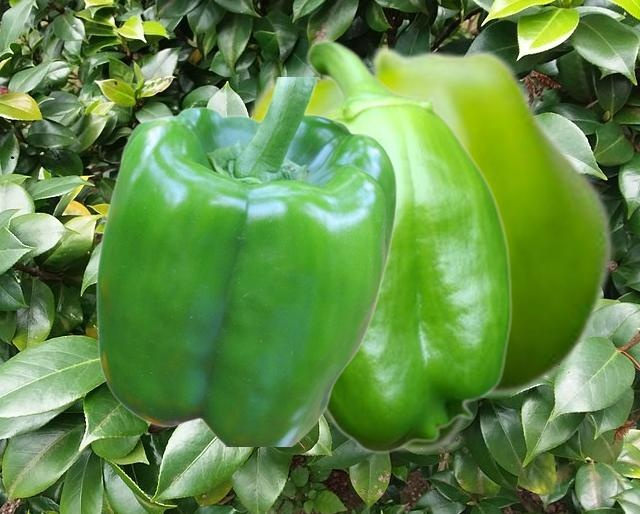bell_pepper: (242, 44, 613, 453), (95, 77, 396, 445), (304, 39, 512, 453)
